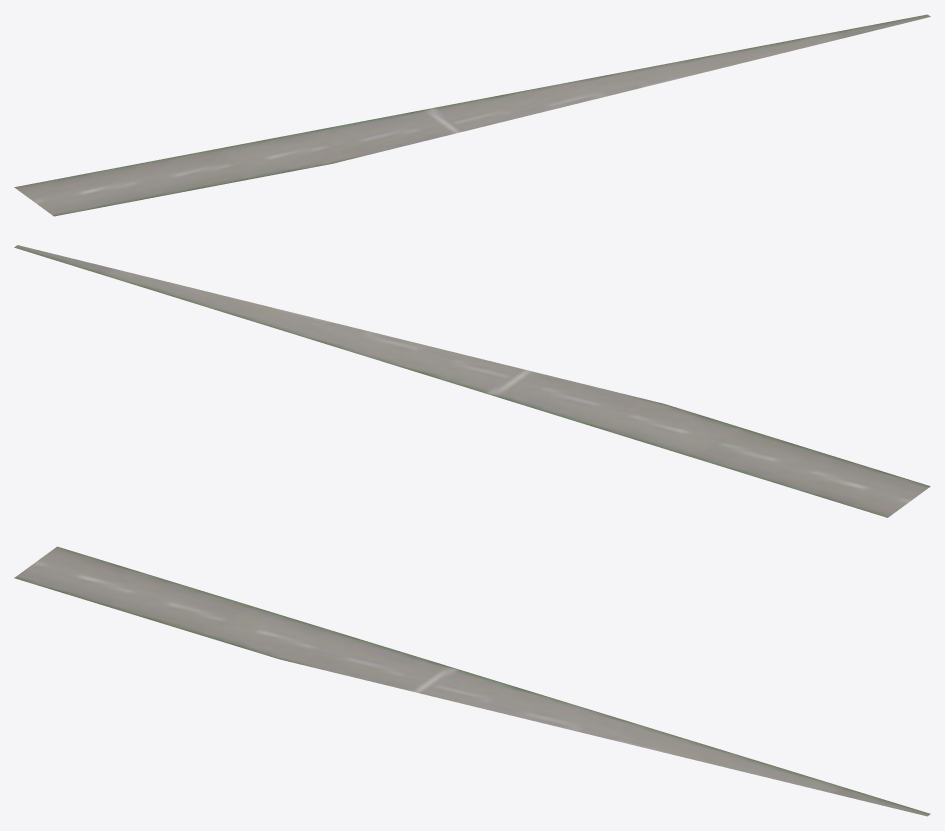
Rendered from LSMM_-1_0.glb.
The picture shows the model from 3 angles, top to bottom: view 1: azimuth 30°, elevation 25°; view 2: azimuth 150°, elevation 25°; view 3: azimuth 330°, elevation 25°; orthographic projection. The views are drawn at different scales.
Parts seen in each view (by area): view 1: pavement_LSMM_pavement_5302_2354; view 2: pavement_LSMM_pavement_5302_2354; view 3: pavement_LSMM_pavement_5302_2354.
Part boxes in pixels (x1,y1,x2,y2): pavement_LSMM_pavement_5302_2354: (14, 14, 930, 216); pavement_LSMM_pavement_5302_2354: (14, 245, 930, 517); pavement_LSMM_pavement_5302_2354: (14, 546, 930, 816).
Bounding box in the file's own units: 500 × 0.7658 × 56.39.
1 material, 1 textured.
